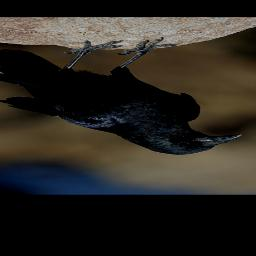Crow: (0, 37, 247, 156)
